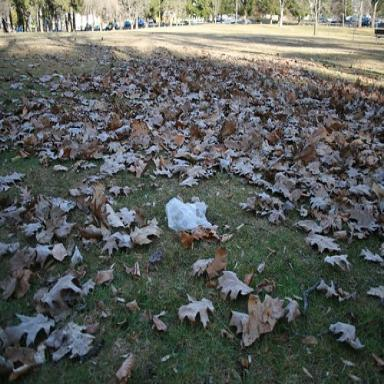plasticbag: (9, 150, 203, 384)
